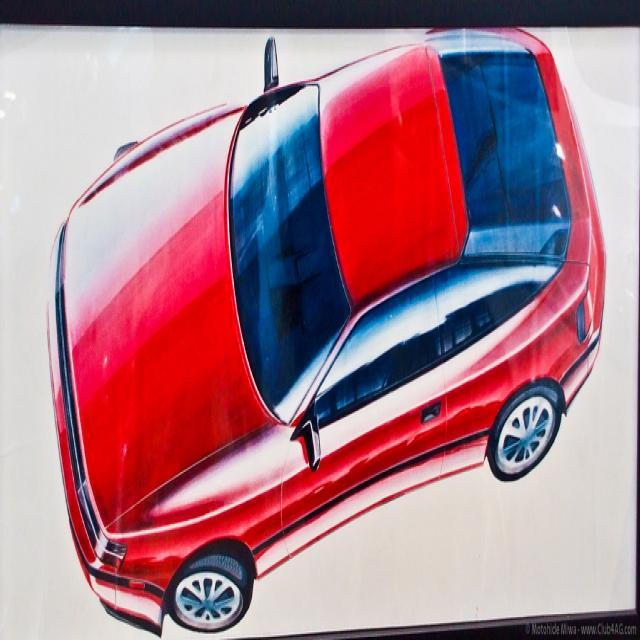car: (46, 33, 606, 634)
